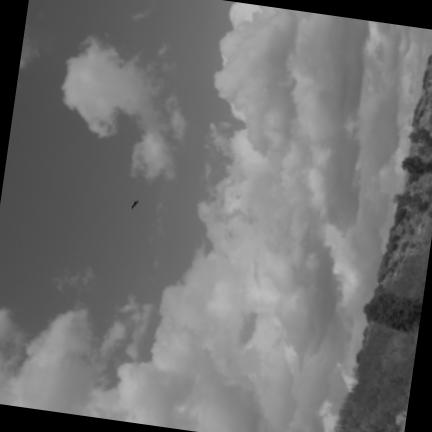Shahed: (131, 200, 138, 208)
